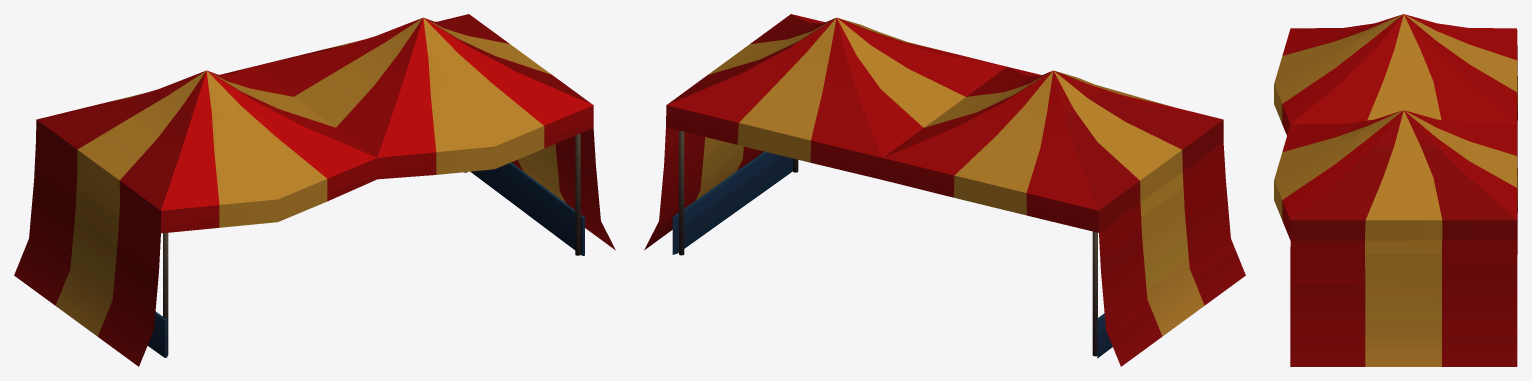
The model's file is SM_BoothLong.fbx.
3 views of the same model, side by side, from view 1: azimuth 30°, elevation 25°; view 2: azimuth 150°, elevation 25°; view 3: azimuth 270°, elevation 25° (orthographic). The views are drawn at different scales.
Visible parts, largest first — view 1: Booth; view 2: Booth; view 3: Booth.
Part boxes in pixels (x1=…): Booth: x1=14, y1=14, x2=615, y2=366; Booth: x1=644, y1=14, x2=1245, y2=366; Booth: x1=1274, y1=14, x2=1517, y2=366.
Size of the model in its own units: 684 by 301 by 333.
